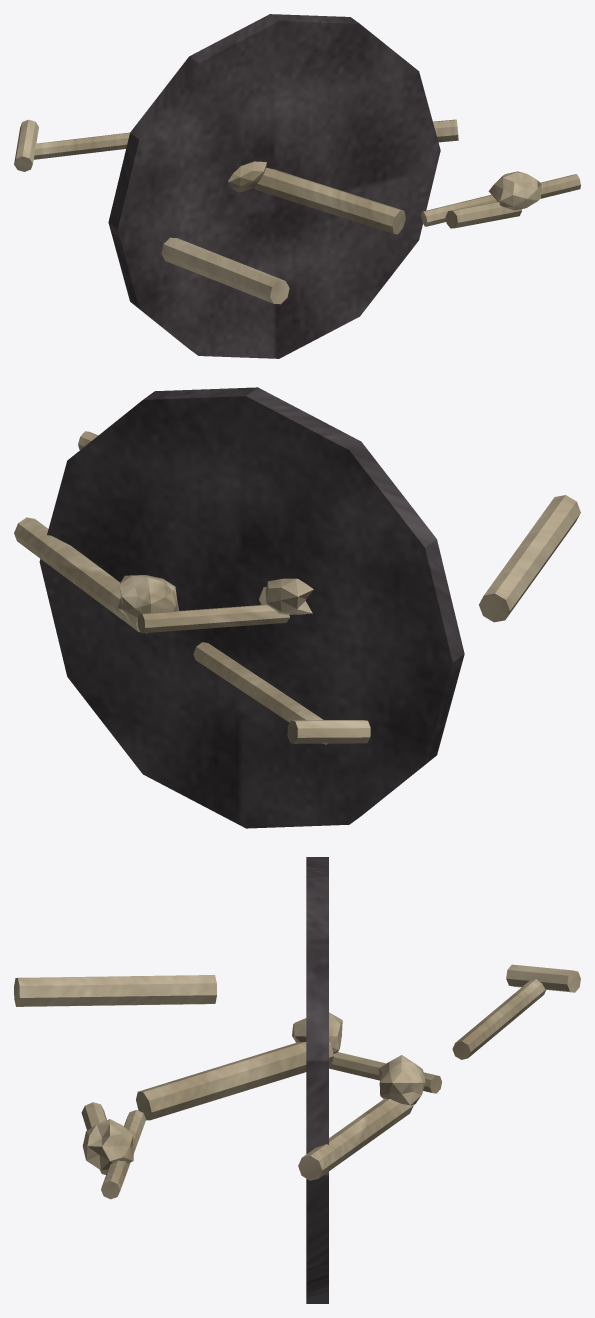
The model's file is 0246_bone_heap_21.glb.
The picture shows the model from 3 angles, top to bottom: view 1: azimuth 30°, elevation 25°; view 2: azimuth 150°, elevation 25°; view 3: azimuth 270°, elevation 25°; orthographic projection. The views are drawn at different scales.
Visible parts, largest first — view 1: ash, bone; view 2: ash, bone; view 3: bone, ash.
Boxes of the visible parts, x1,y1,x2,y2 form: ash: [108, 14, 440, 358]; bone: [14, 119, 580, 304]; ash: [39, 387, 464, 828]; bone: [14, 431, 580, 744]; bone: [14, 964, 580, 1199]; ash: [306, 857, 328, 1303].
Bounding box in the file's own units: 1.96 × 1.6 × 2.02.
2 materials, 2 textured.
